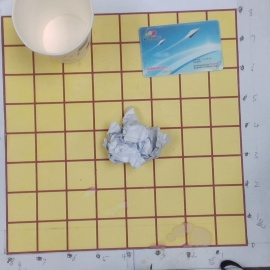card: (138, 20, 224, 77)
cup: (12, 1, 109, 69)
